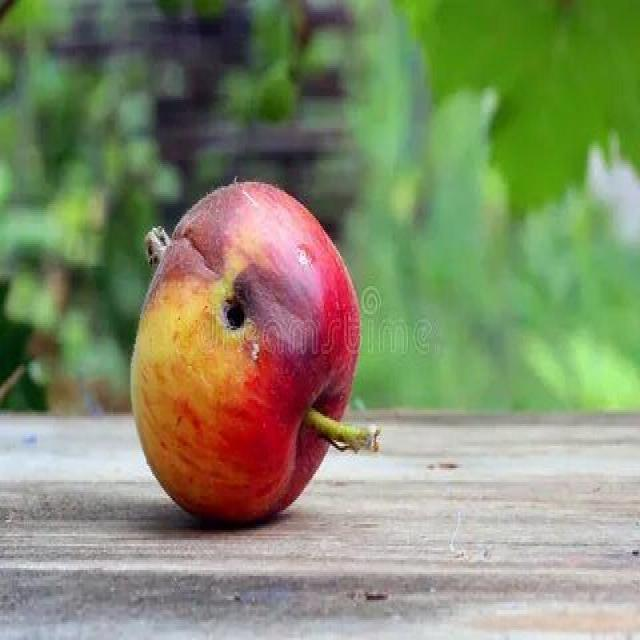Banana: (125, 173, 368, 533)
